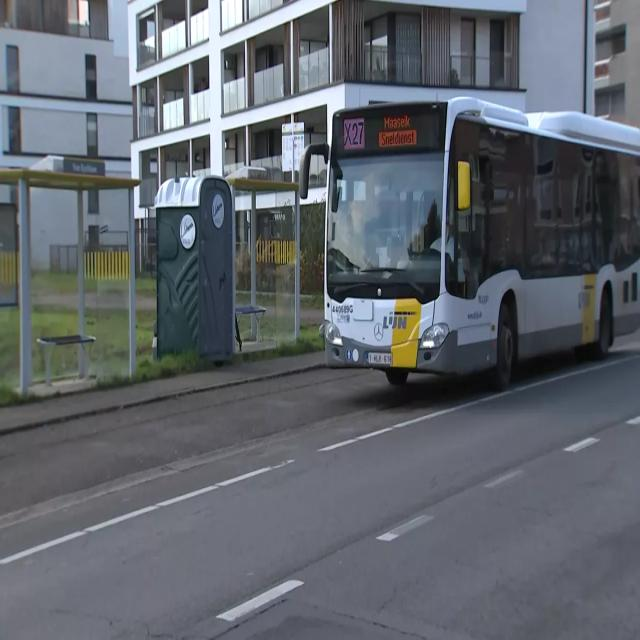bus-number: (344, 121, 364, 149)
